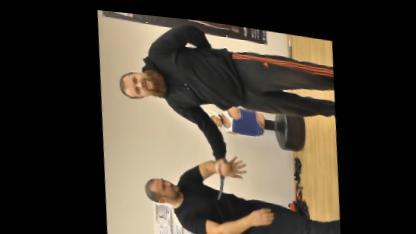knife: (206, 156, 228, 200)
